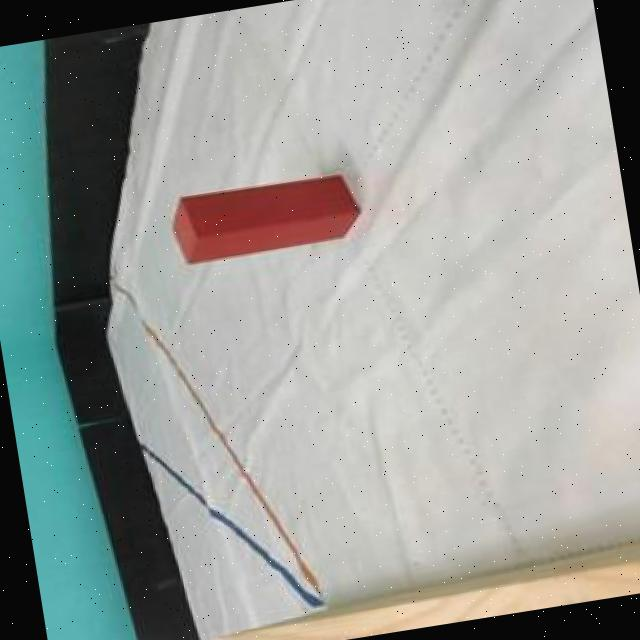redbox: (164, 167, 364, 264)
